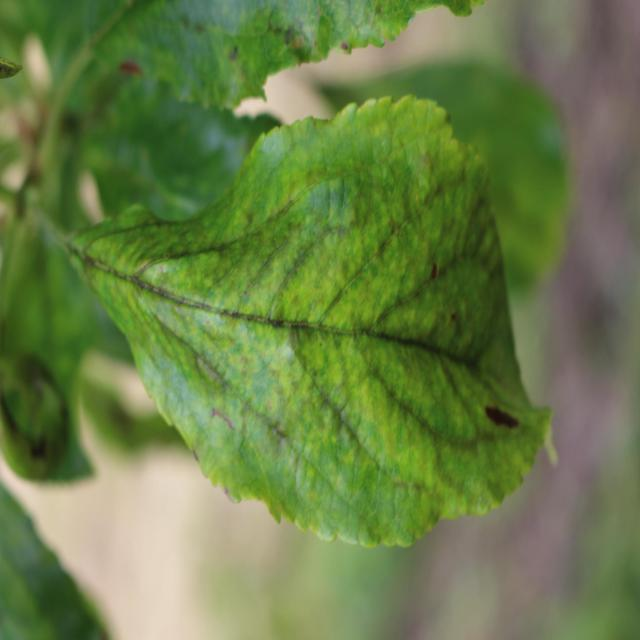rust: (68, 94, 552, 548)
